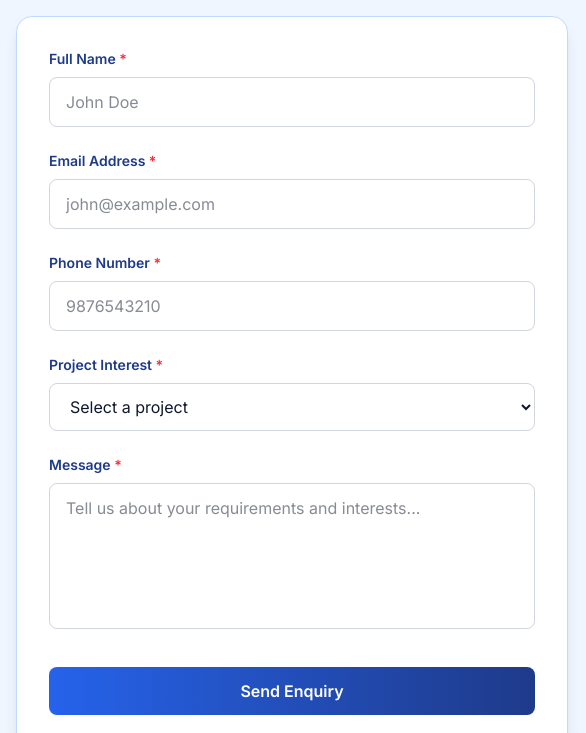
Scenario: EnquiryForm Component › shows validation errors for empty fields
This screenshot has width=586, height=733.
Click the button "Send Enquiry" at (292,691), box x1=49 y1=667 x2=535 y2=715
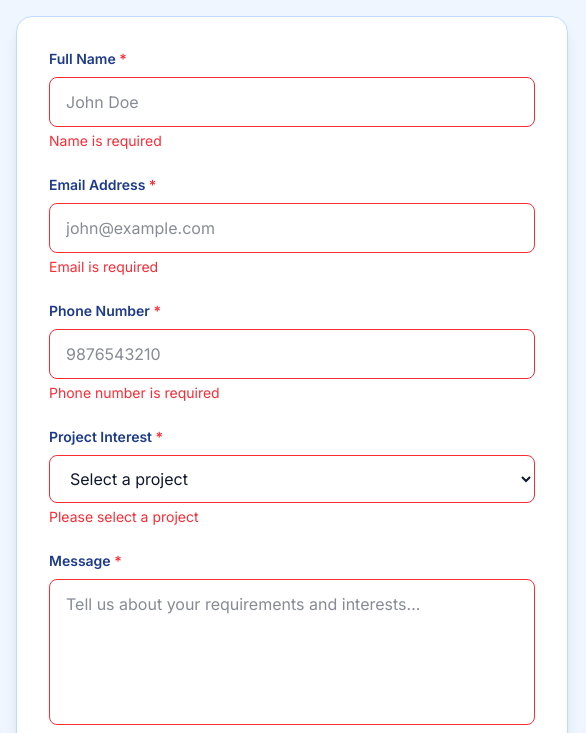
expect the text "Name is required" is shown: met, box x1=49 y1=132 x2=162 y2=149
expect the text "Email is required" is shown: met, box x1=49 y1=258 x2=158 y2=275
expect the text "Phone number is required" is shown: met, box x1=49 y1=384 x2=220 y2=401
